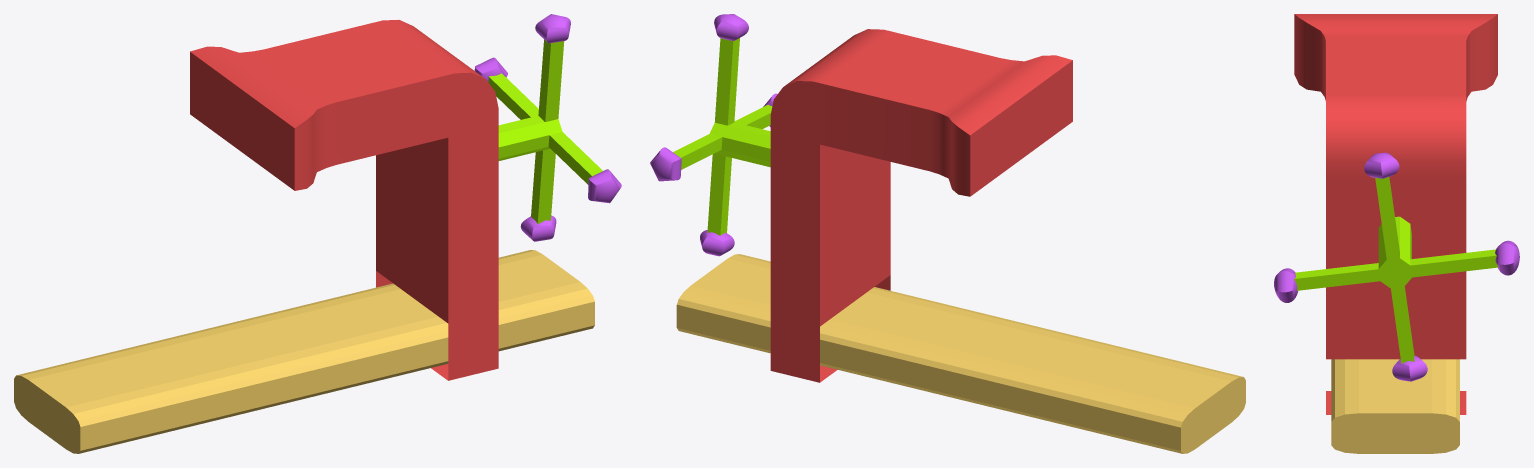
Rendered from ittirme makine .fbx.
3 views of the same model, side by side, from view 1: azimuth 30°, elevation 25°; view 2: azimuth 150°, elevation 25°; view 3: azimuth 270°, elevation 25° (orthographic). The views are drawn at different scales.
Parts seen in each view (by area): view 1: ittirme mak, ittirme mak zemin, ittirme mak kol; view 2: ittirme mak, ittirme mak zemin, ittirme mak kol; view 3: ittirme mak, ittirme mak zemin, ittirme mak kol.
Part boxes in pixels (x1=…): ittirme mak: x1=190, y1=20, x2=498, y2=380; ittirme mak zemin: x1=14, y1=250, x2=594, y2=453; ittirme mak kol: x1=474, y1=14, x2=621, y2=241; ittirme mak: x1=770, y1=29, x2=1072, y2=382; ittirme mak zemin: x1=676, y1=254, x2=1245, y2=453; ittirme mak kol: x1=650, y1=14, x2=777, y2=256; ittirme mak: x1=1294, y1=14, x2=1497, y2=414; ittirme mak zemin: x1=1331, y1=359, x2=1459, y2=453; ittirme mak kol: x1=1274, y1=152, x2=1519, y2=381.
Size of the model in its own units: 201 by 115 by 85.33.
